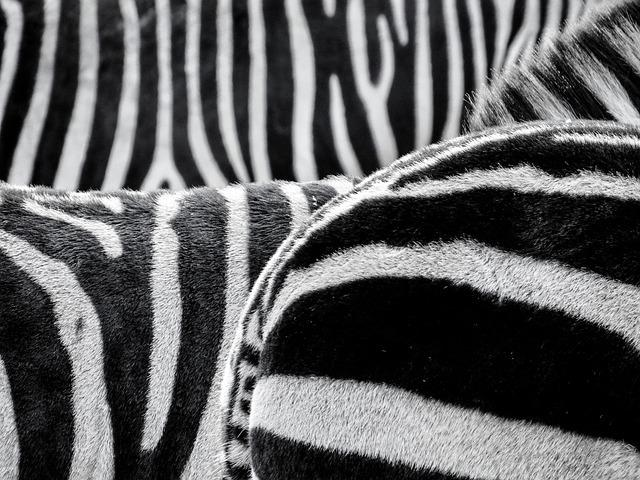Non_Gorille: (15, 46, 554, 454)
